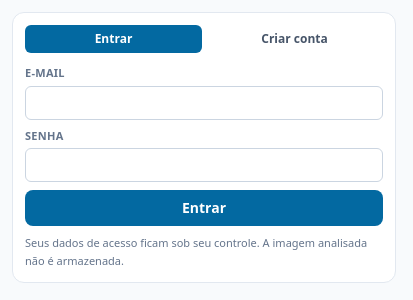
Scenario: AuthPanel › mostra o usuário e o botão Sair após autenticar
The image size is (413, 300).
In the field labelled "E-mail": x=204, y=102 [25, 86, 383, 120], type "ana@clinica.com"
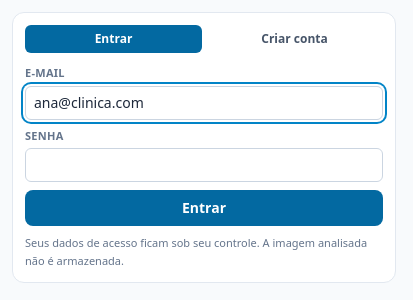
In the password field labelled "Senha": x=204, y=165 [25, 148, 383, 182], type "segredo123"
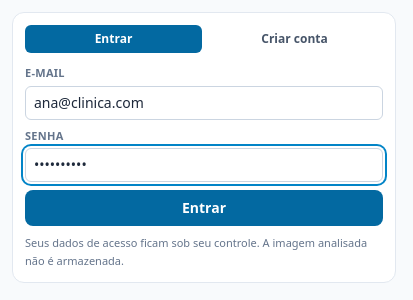
Click the button "Entrar": x=204, y=208 [25, 190, 383, 226]
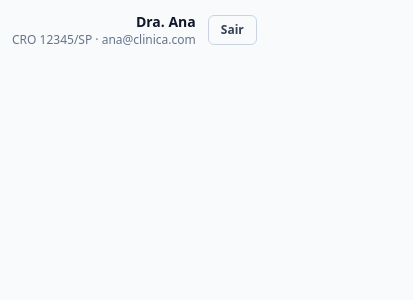
Now the text "Dra. Ana" is shown, box [136, 12, 196, 31]
Now the button "Sair" is shown, box [208, 15, 257, 45]
